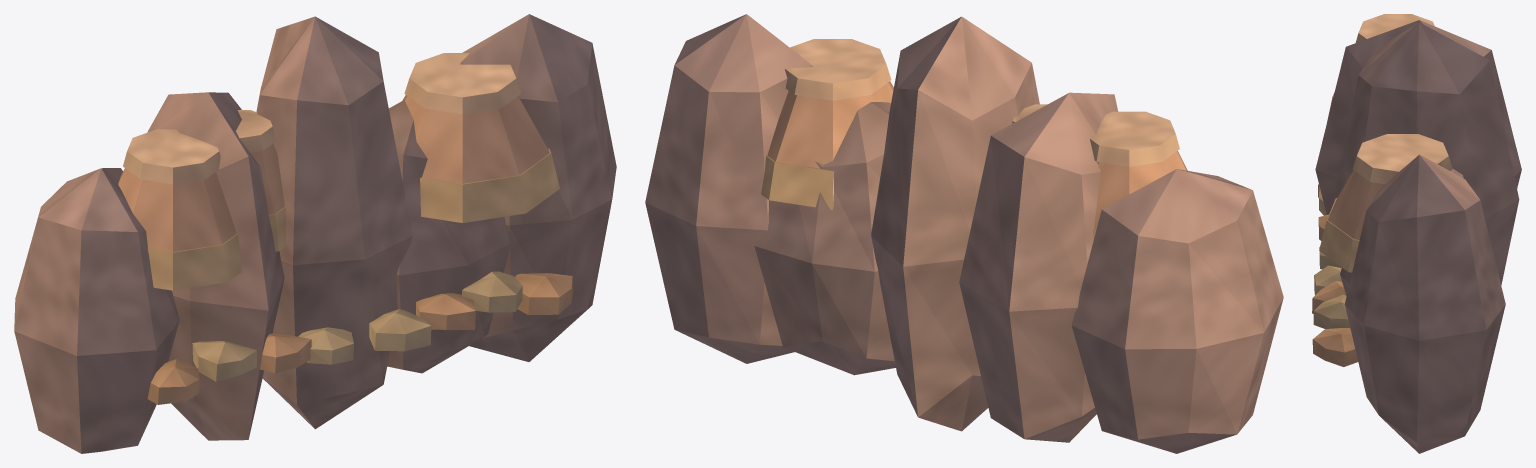
File: dusk_wall_clay.glb
The picture shows the model from 3 angles, left to right: view 1: azimuth 30°, elevation 25°; view 2: azimuth 150°, elevation 25°; view 3: azimuth 270°, elevation 25°; orthographic projection. The views are drawn at different scales.
Visible parts, largest first — view 1: Dämmergänge · Wand mit clay; view 2: Dämmergänge · Wand mit clay; view 3: Dämmergänge · Wand mit clay.
Boxes of the visible parts, <box> form: Dämmergänge · Wand mit clay: <box>14,14,616,453</box>; Dämmergänge · Wand mit clay: <box>645,14,1283,453</box>; Dämmergänge · Wand mit clay: <box>1312,14,1521,453</box>.
Bounding box in the file's own units: 2.53 × 1.66 × 0.8892.
Materials: 1 (1 with a texture image).
